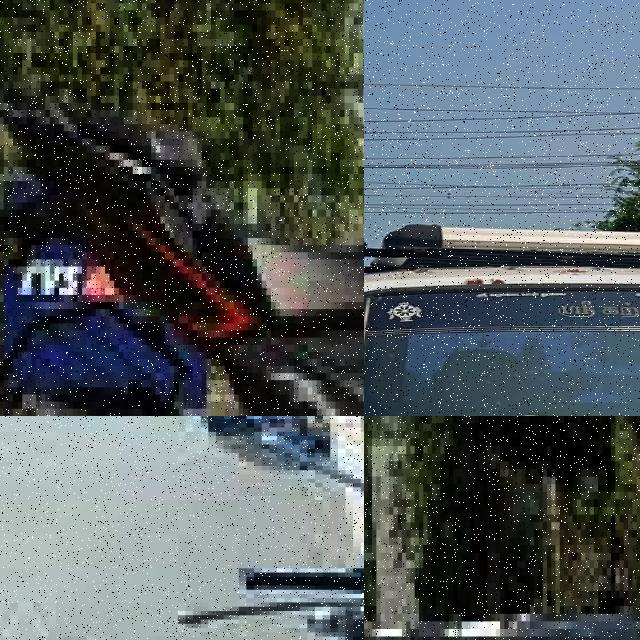bike: (0, 39, 364, 416), (140, 483, 364, 640)
car: (364, 211, 640, 416), (457, 568, 640, 640)
